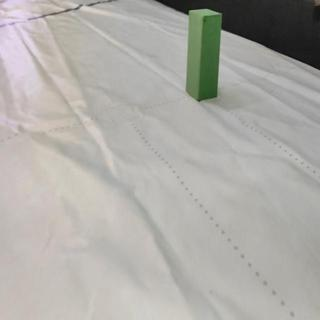greenbox: (186, 7, 221, 104)
